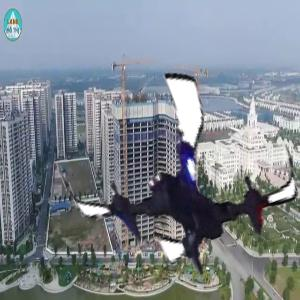drone: (61, 55, 300, 294)
